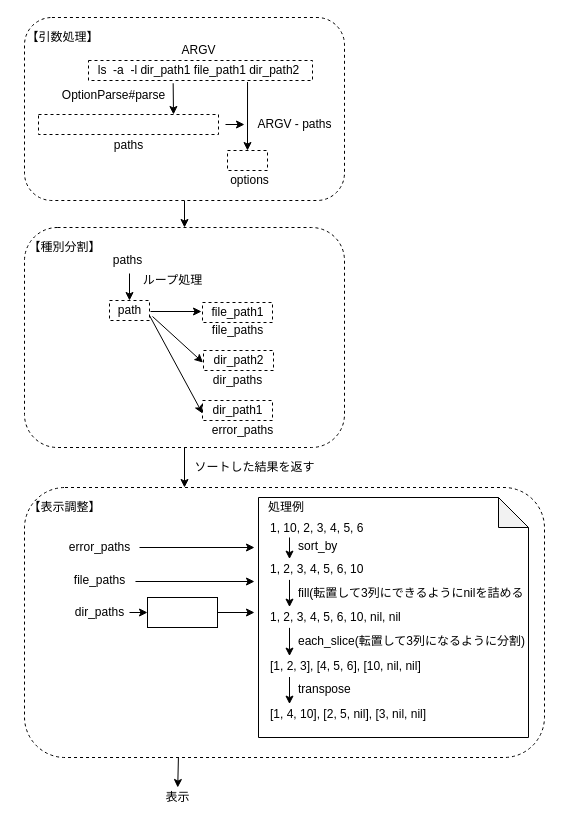
Some shapes in this 562 by 825 pixel diagram are drawn without their labels. Here are the shapes that lost their labels. From the top down, the centre of each, then its label:
point 128,124: dir_path1 file_path1 dir_path2
point 247,160: -a -l
point 182,612: 一覧取得 Dir.glob
